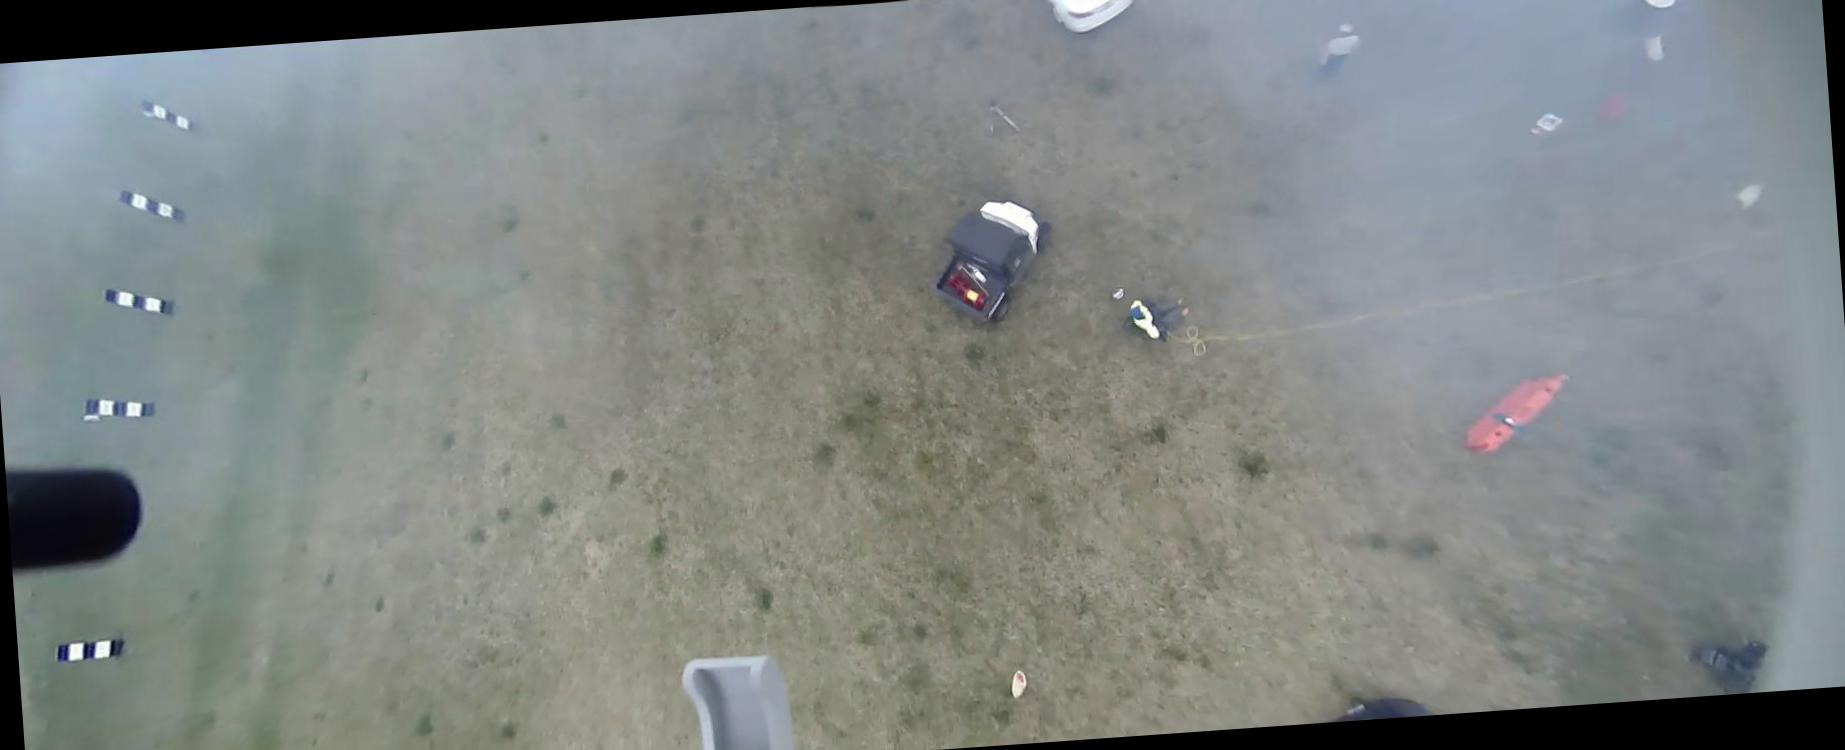vehicle: (925, 188, 1059, 327), (1037, 0, 1139, 39), (1323, 697, 1428, 722)
